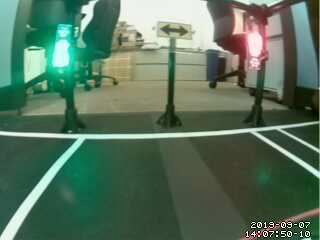Left_Right_sign: (155, 21, 192, 39)
Traffic_light_green: (54, 23, 68, 65)
Traffic_light_red: (244, 30, 266, 65)
